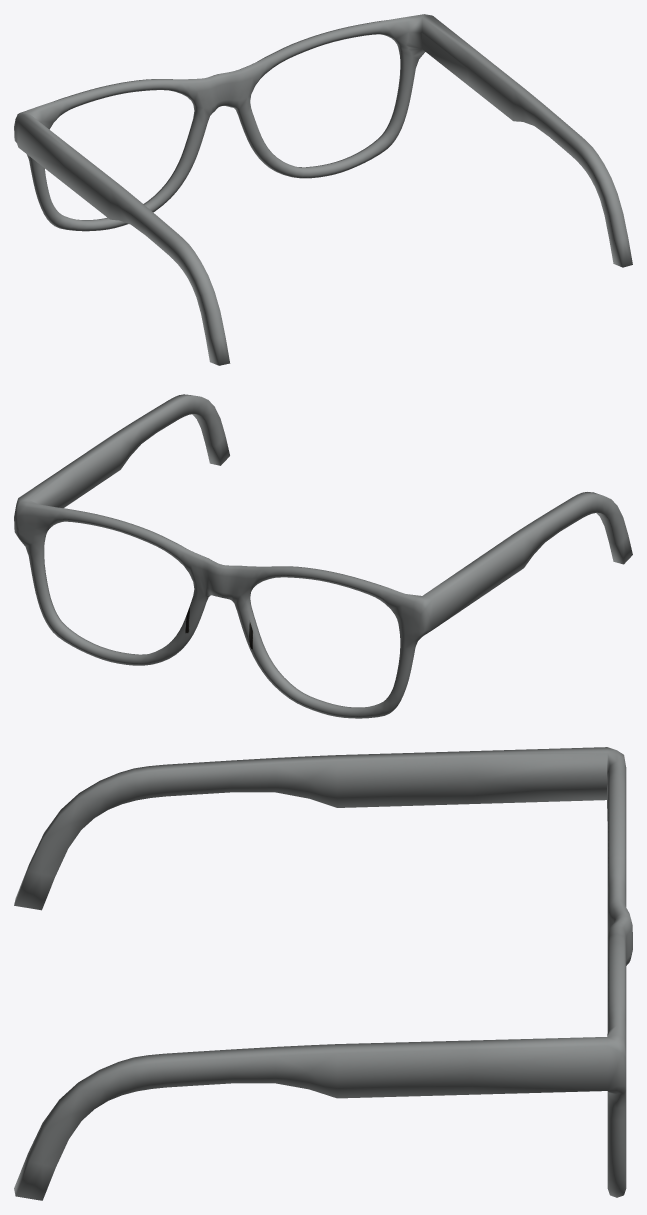
Rendered from glasses_model.fbx.
3 renders of one model, top to bottom at view 1: azimuth 30°, elevation 25°; view 2: azimuth 150°, elevation 25°; view 3: azimuth 270°, elevation 25°, orthographic. The views are drawn at different scales.
Visible parts, largest first — view 1: Glasses; view 2: Glasses; view 3: Glasses.
Part boxes in pixels (<box>): Glasses: <box>14,14,632,365</box>; Glasses: <box>14,394,632,718</box>; Glasses: <box>14,747,632,1200</box>.
Bounding box in the file's own units: 16.47 × 5.4 × 14.43.
